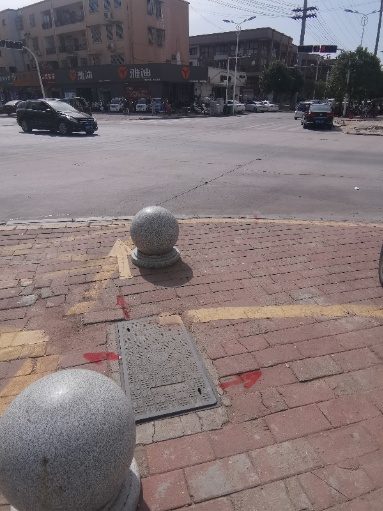good: (113, 313, 228, 425)
